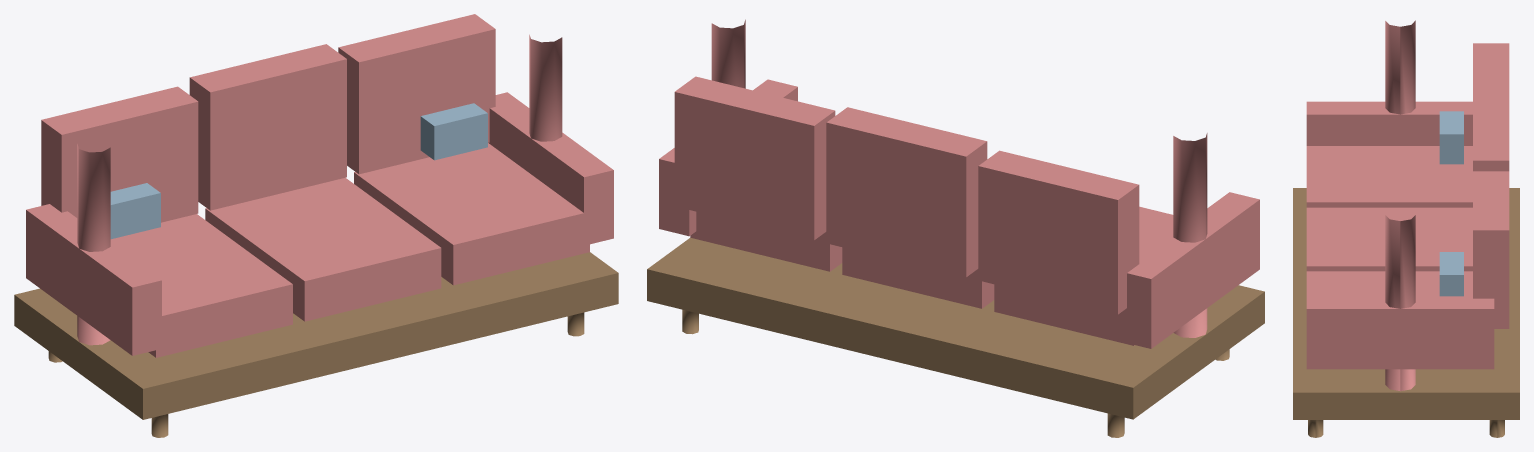
The model's file is sofa.glb.
The picture shows the model from 3 angles, left to right: view 1: azimuth 30°, elevation 25°; view 2: azimuth 150°, elevation 25°; view 3: azimuth 270°, elevation 25°; orthographic projection. The views are drawn at different scales.
Parts seen in each view (by area): view 1: frame, back_c, cushion_c, cushion_r, back_r, cushion_l, back_l, arm_l, arm_r, pillows, arm_l_top, arm_r_top (+1 smaller); view 2: frame, back_c, back_l, back_r, arm_l, cushion_l, cushion_c, cushion_r, arm_l_top, arm_r, arm_r_top, legs; view 3: frame, arm_r, cushion_l, cushion_c, arm_l, back_r, arm_r_top, cushion_r, arm_l_top, back_c, pillows, back_l (+1 smaller).
Boxes of the visible parts, box(x1,y1,x2,y2) form: frame: box(14, 252, 618, 419); back_c: box(189, 44, 346, 210); cushion_c: box(205, 177, 441, 321); cushion_r: box(354, 143, 589, 285); back_r: box(338, 14, 495, 174); cushion_l: box(110, 214, 292, 357); back_l: box(41, 86, 198, 222); arm_l: box(26, 204, 161, 355); arm_r: box(488, 92, 613, 244); pillows: box(110, 103, 487, 239); arm_l_top: box(77, 144, 110, 345); arm_r_top: box(529, 34, 562, 141); frame: box(647, 237, 1264, 419); back_c: box(826, 107, 987, 277); back_l: box(978, 150, 1139, 314); back_r: box(674, 76, 835, 240); arm_l: box(1121, 192, 1259, 348); cushion_l: box(994, 206, 1173, 345); cushion_c: box(842, 247, 994, 308); cushion_r: box(690, 211, 842, 271); arm_l_top: box(1173, 133, 1207, 337); arm_r: box(659, 79, 797, 236); arm_r_top: box(711, 19, 745, 88); legs: box(682, 309, 1229, 437); frame: box(1293, 188, 1519, 419); arm_r: box(1306, 296, 1494, 369); cushion_l: box(1306, 146, 1472, 207); cushion_c: box(1306, 207, 1472, 271); arm_l: box(1306, 101, 1472, 145); back_r: box(1473, 171, 1509, 328); arm_r_top: box(1385, 215, 1415, 391); cushion_r: box(1306, 271, 1472, 296); arm_l_top: box(1385, 20, 1415, 114); back_c: box(1473, 102, 1509, 171); pillows: box(1439, 111, 1463, 296); back_l: box(1473, 43, 1509, 101).
Bounding box in the file's own units: 1.62 × 0.83 × 0.75.
